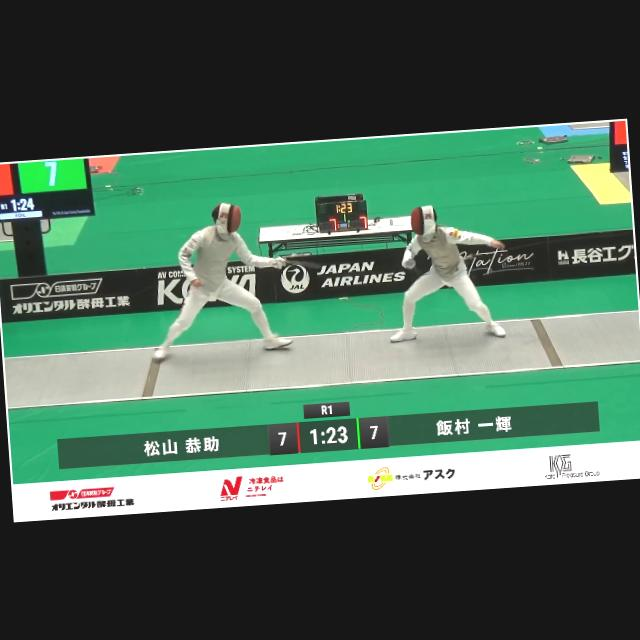blade: (270, 254, 328, 279)
